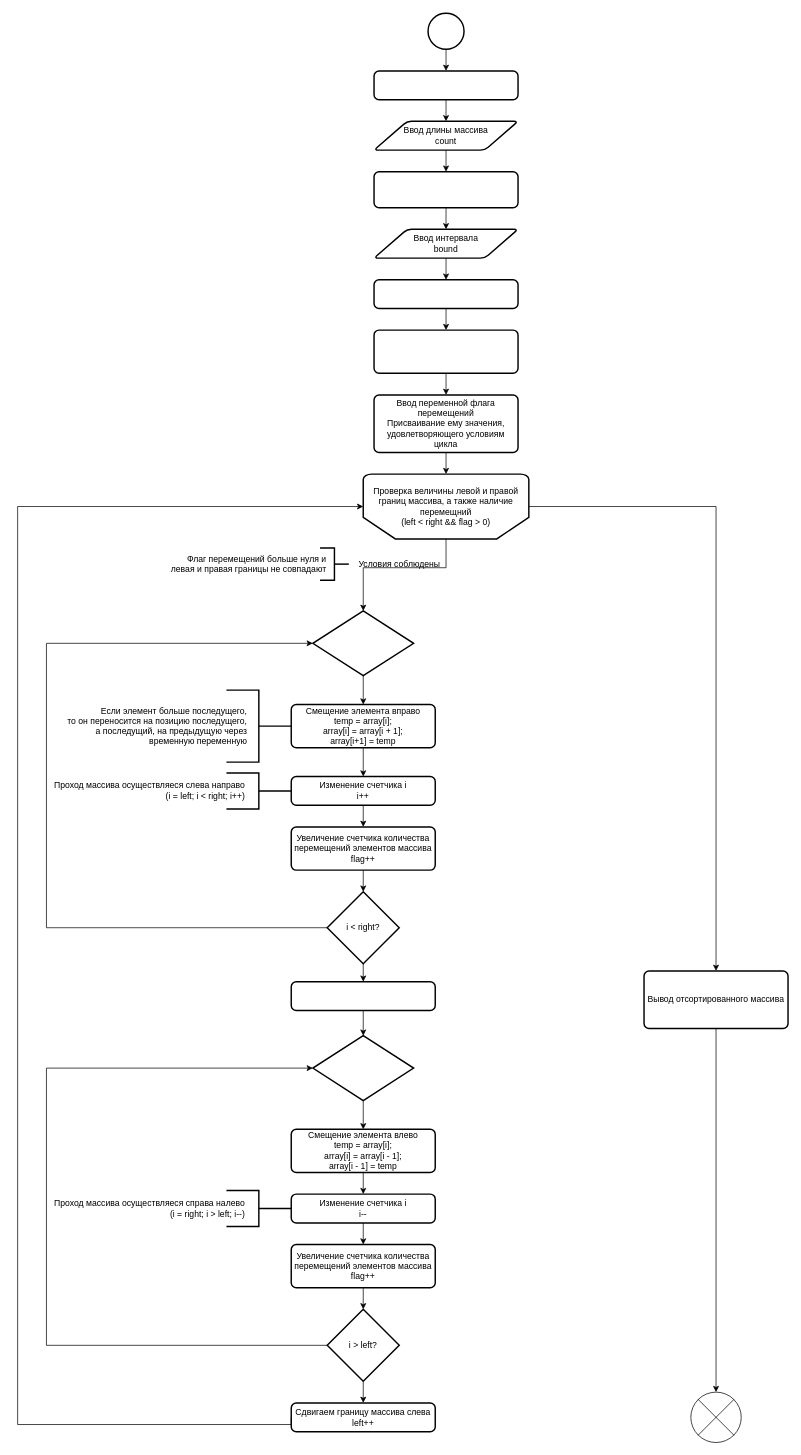
Some shapes in this 801 by 1455 pixel diagram are drawn without their labels. The shapes that lost their labels are listed below. From the top down, each one's centre as x and y in pixels, then its label:
the point at 445,85: Сообщение: "Задайте длину массива данных"
the point at 445,189: Сообщение: "Задайте интервал чисел для заполнения массива"
the point at 445,294: Инициализация массива array[count] и его заполнение
the point at 445,351: Ввод граничных переменных left = 0 right = count - 1
the point at 363,643: array[i] > array[i + 1]
the point at 363,996: Сдвигаем границу массива справа right--
the point at 363,1068: array[i - 1] > array[i]
